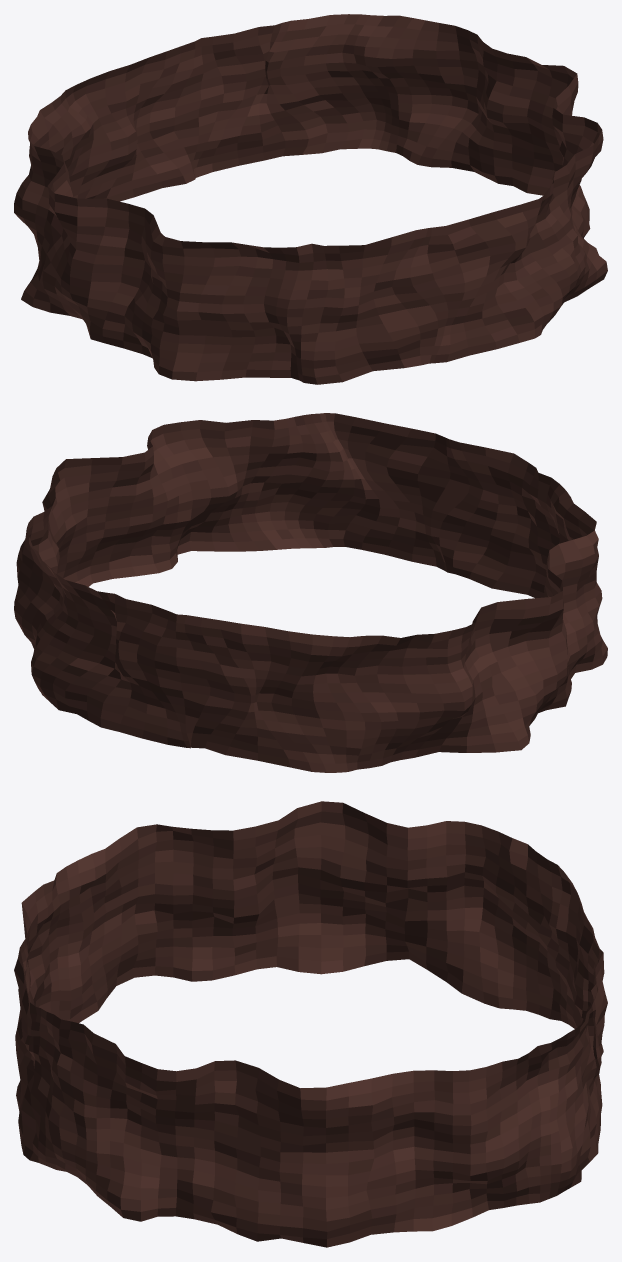
File: CaveWall.fbx
3 renders of one model, top to bottom at view 1: azimuth 30°, elevation 25°; view 2: azimuth 150°, elevation 25°; view 3: azimuth 270°, elevation 25°, orthographic. The views are drawn at different scales.
Visible parts, largest first — view 1: Plane.004; view 2: Plane.004; view 3: Plane.004.
Boxes of the visible parts, x1=… form: Plane.004: x1=14, y1=14, x2=607, y2=384; Plane.004: x1=14, y1=413, x2=607, y2=772; Plane.004: x1=14, y1=801, x2=607, y2=1247.
Size of the model in its own units: 1341 by 345 by 1151.
